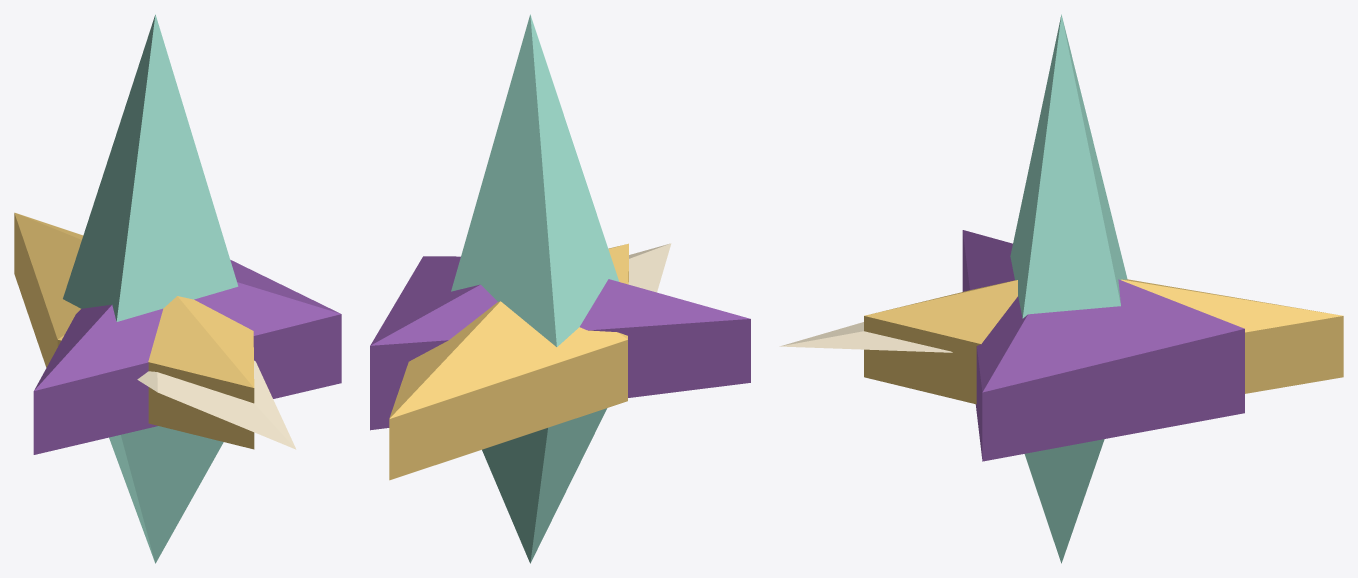
File: impact-shards.glb
3 views of the same model, side by side, from view 1: azimuth 30°, elevation 25°; view 2: azimuth 150°, elevation 25°; view 3: azimuth 270°, elevation 25° (orthographic).
Parts seen in each view (by area): view 1: Crystal_splinter, Obsidian_chip, Gothic_gold_facet, Feather_fragment; view 2: Crystal_splinter, Gothic_gold_facet, Obsidian_chip, Feather_fragment; view 3: Obsidian_chip, Crystal_splinter, Gothic_gold_facet, Feather_fragment.
Boxes of the visible parts, <box> form: Crystal_splinter: <box>63,14,238,563</box>; Obsidian_chip: <box>33,260,341,454</box>; Gothic_gold_facet: <box>14,212,254,449</box>; Feather_fragment: <box>137,360,296,449</box>; Crystal_splinter: <box>451,14,619,563</box>; Gothic_gold_facet: <box>389,243,628,480</box>; Obsidian_chip: <box>370,256,750,430</box>; Feather_fragment: <box>628,243,671,292</box>; Obsidian_chip: <box>962,230,1244,461</box>; Crystal_splinter: <box>1010,14,1127,563</box>; Gothic_gold_facet: <box>864,279,1343,404</box>; Feather_fragment: <box>779,322,952,352</box>.
Size of the model in its own units: 1.3 by 2.15 by 2.
